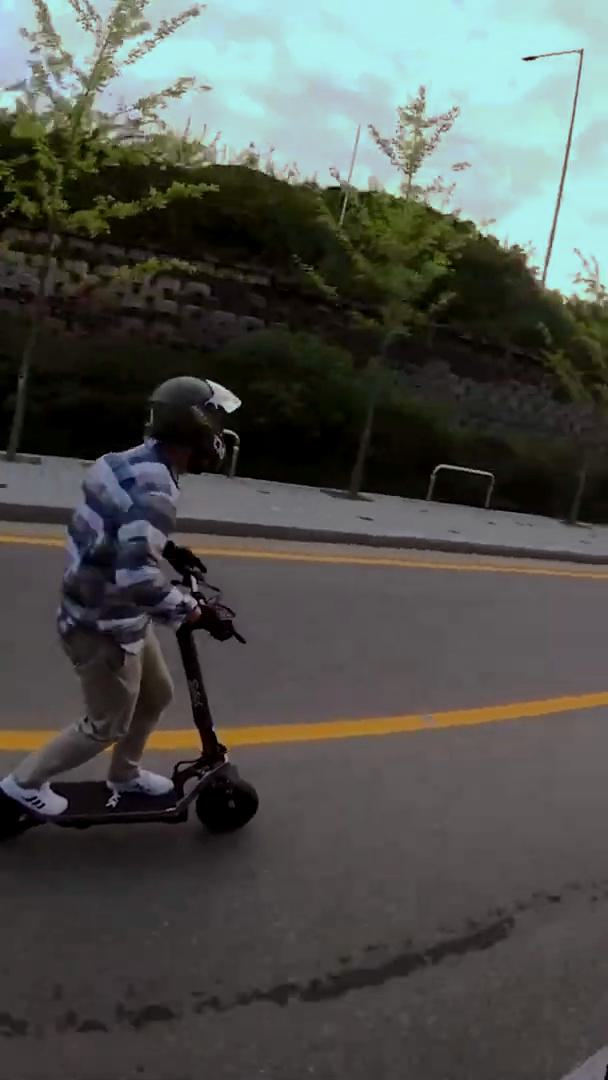helmet: (1, 376, 265, 839)
